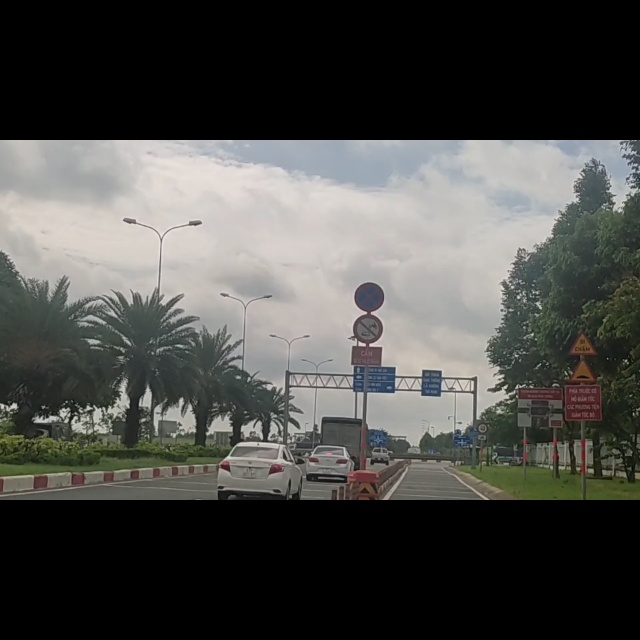bien_nguy_hiem: (353, 250, 385, 306), (353, 307, 384, 361), (568, 337, 601, 383), (567, 386, 599, 433)
